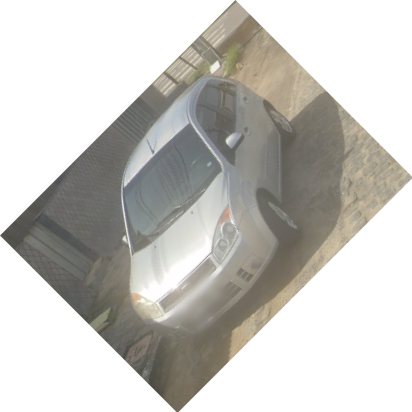car: (122, 77, 299, 337)
